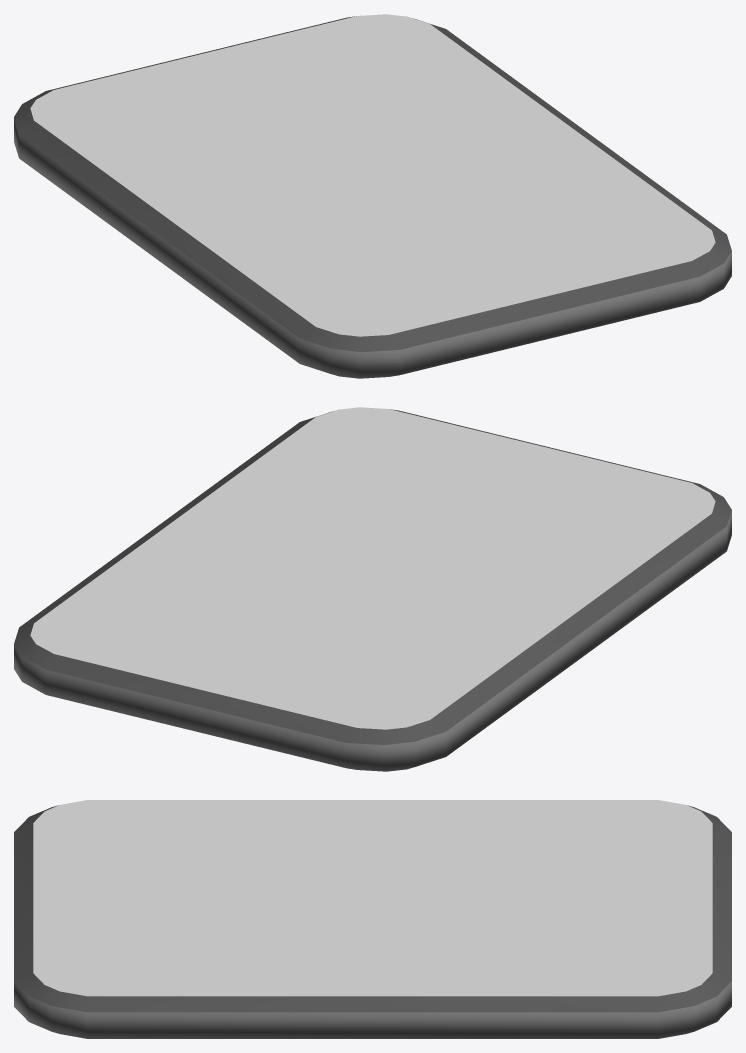
Rendered from glass.fbx.
3 views of the same model, one above another, from view 1: azimuth 30°, elevation 25°; view 2: azimuth 150°, elevation 25°; view 3: azimuth 270°, elevation 25° (orthographic).
Parts seen in each view (by area): view 1: Glass; view 2: Glass; view 3: Glass.
Part boxes in pixels (left/top/right/bottom): Glass: left=14, top=14, right=731, bottom=378; Glass: left=14, top=407, right=731, bottom=771; Glass: left=14, top=800, right=731, bottom=1038.
Bounding box in the file's own units: 0.4454 × 0.0419 × 0.6391.
